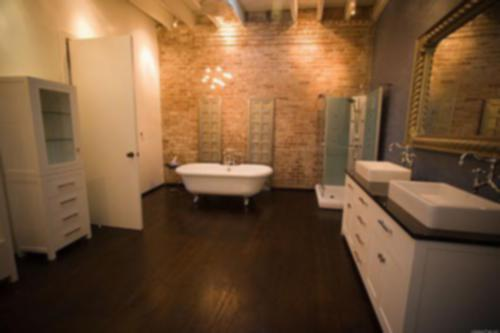Ducha: (316, 87, 382, 209)
Lavamanos: (385, 145, 499, 241), (346, 142, 418, 181)
